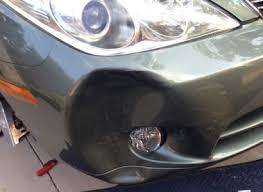front-bumper-dent: (1, 43, 262, 191)
